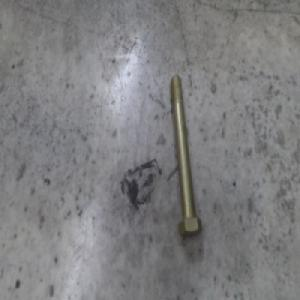Bolt: (170, 78, 204, 240)
